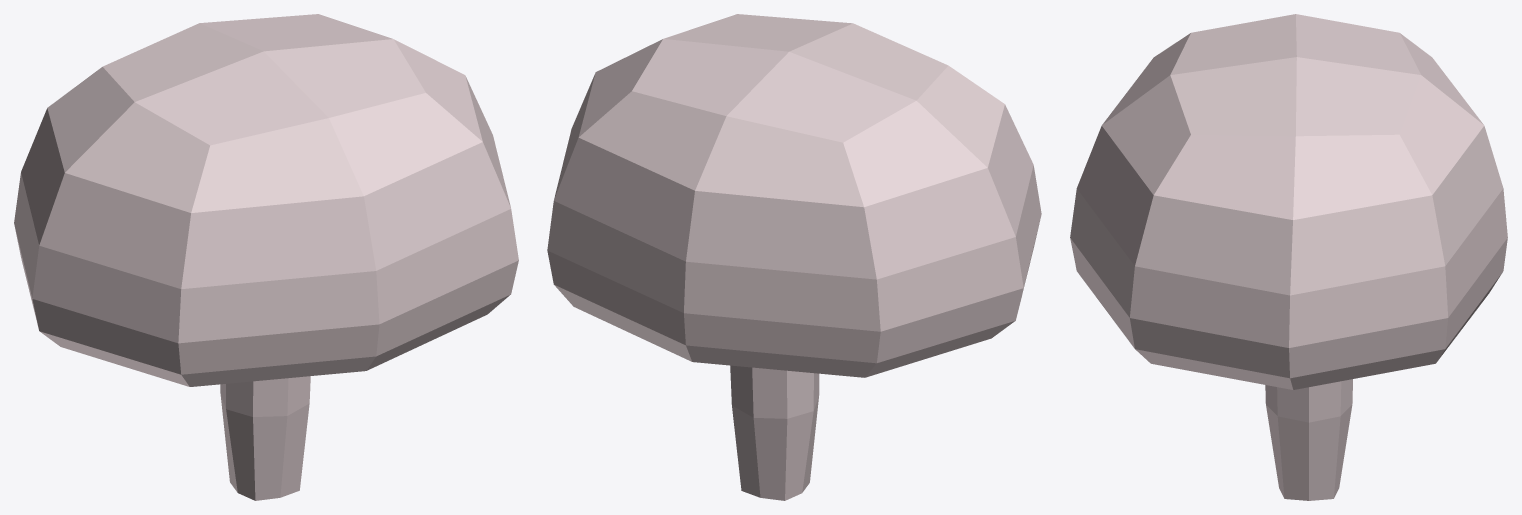
The model's file is champignon.fbx.
The picture shows the model from 3 angles, left to right: view 1: azimuth 30°, elevation 25°; view 2: azimuth 150°, elevation 25°; view 3: azimuth 270°, elevation 25°; orthographic projection. The views are drawn at different scales.
Parts seen in each view (by area): view 1: Champignon; view 2: Champignon; view 3: Champignon.
Boxes of the visible parts, x1,y1,x2,y2 form: Champignon: (14,14,518,500); Champignon: (547,14,1041,500); Champignon: (1070,14,1507,500).
Bounding box in the file's own units: 0.61 × 0.55 × 0.51.
